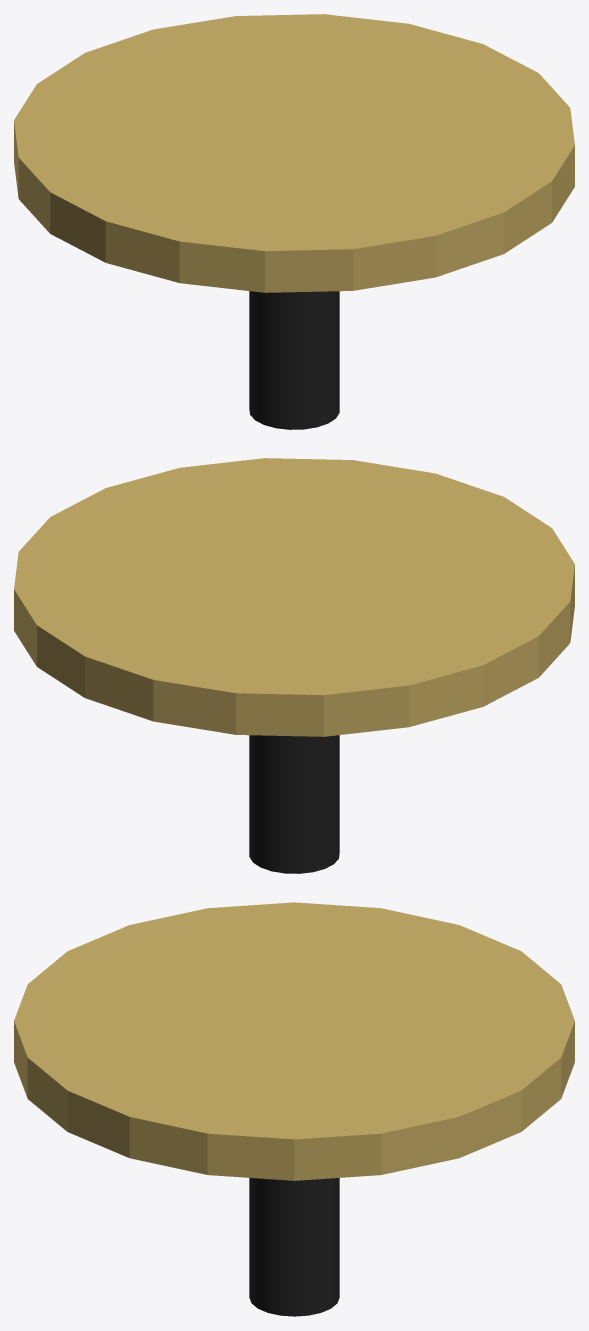
The model's file is Mesa (con FBX).fbx.
3 renders of one model, top to bottom at view 1: azimuth 30°, elevation 25°; view 2: azimuth 150°, elevation 25°; view 3: azimuth 270°, elevation 25°, orthographic.
Visible parts, largest first — view 1: pCylinder3; view 2: pCylinder3; view 3: pCylinder3.
Part boxes in pixels (left/top/right/bottom): pCylinder3: left=14, top=14, right=574, bottom=429; pCylinder3: left=14, top=458, right=574, bottom=873; pCylinder3: left=14, top=902, right=574, bottom=1316.
Size of the model in its own units: 2.43 by 1.32 by 2.43.
